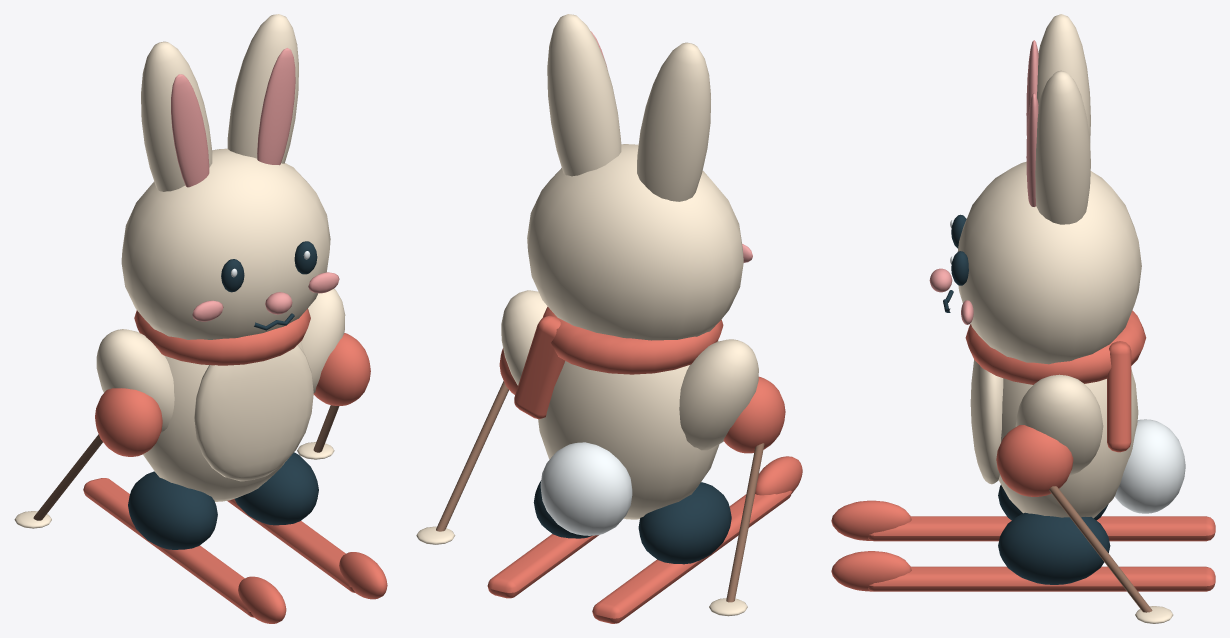
The model's file is bunny.glb.
3 renders of one model, left to right at view 1: azimuth 30°, elevation 25°; view 2: azimuth 150°, elevation 25°; view 3: azimuth 270°, elevation 25°, orthographic. The views are drawn at different scales.
Visible parts, largest first — view 1: Head.002, Body, Left ski, Right ski, Right pole; view 2: Head.002, Body, Left ski, Right pole, Right ski, Left pole; view 3: Head.002, Body, Right ski, Left ski, Right pole.
Boxes of the visible parts, bbox=[...] form: Head.002: bbox=[121, 14, 339, 339]; Body: bbox=[95, 288, 370, 501]; Left ski: bbox=[83, 471, 286, 623]; Right ski: bbox=[227, 452, 387, 599]; Right pole: bbox=[33, 405, 339, 520]; Head.002: bbox=[527, 14, 752, 340]; Body: bbox=[499, 290, 785, 535]; Left ski: bbox=[592, 456, 802, 623]; Right pole: bbox=[416, 381, 764, 602]; Right ski: bbox=[487, 480, 598, 598]; Left pole: bbox=[709, 598, 747, 616]; Head.002: bbox=[929, 14, 1141, 364]; Body: bbox=[965, 310, 1185, 518]; Right ski: bbox=[831, 512, 1215, 591]; Left ski: bbox=[831, 485, 1215, 541]; Right pole: bbox=[1049, 486, 1173, 623].
Bounding box in the file's own units: 2.12 × 3.28 × 2.19.
